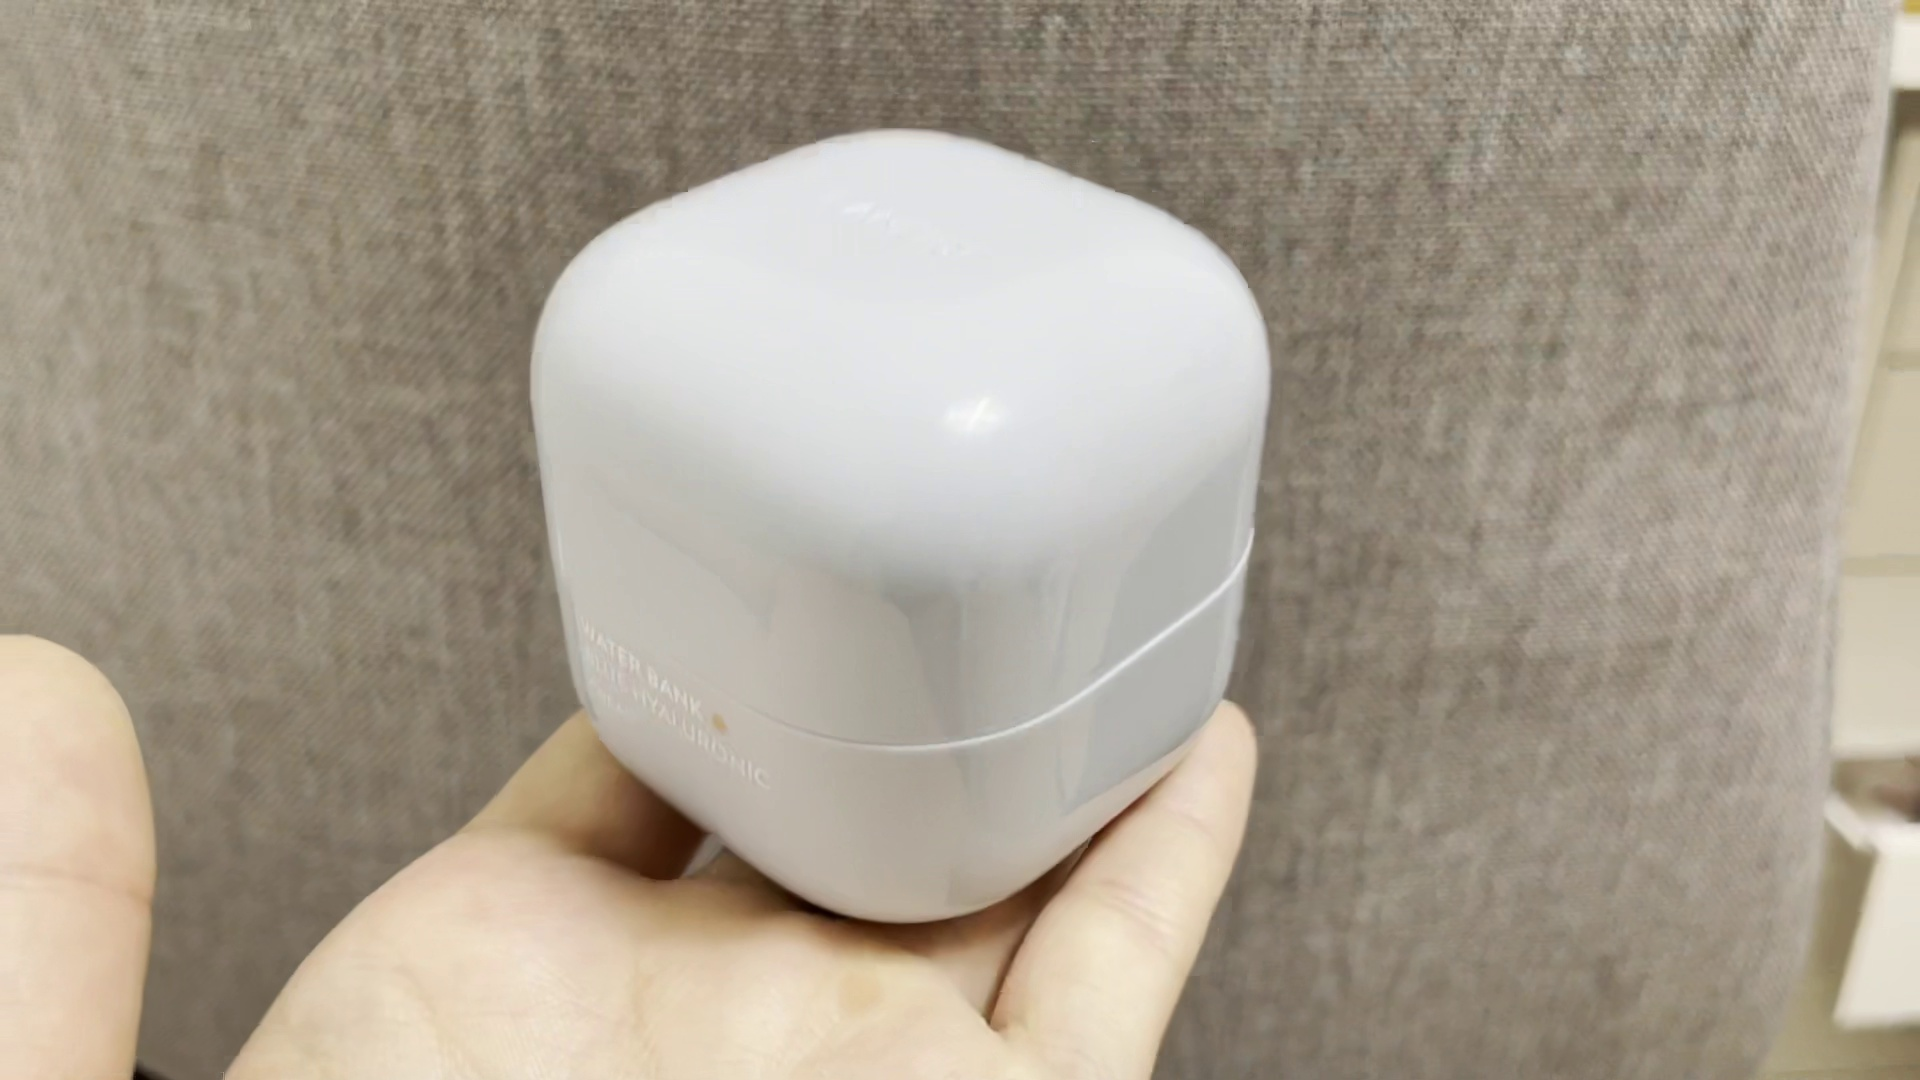cream: (526, 124, 1273, 914)
